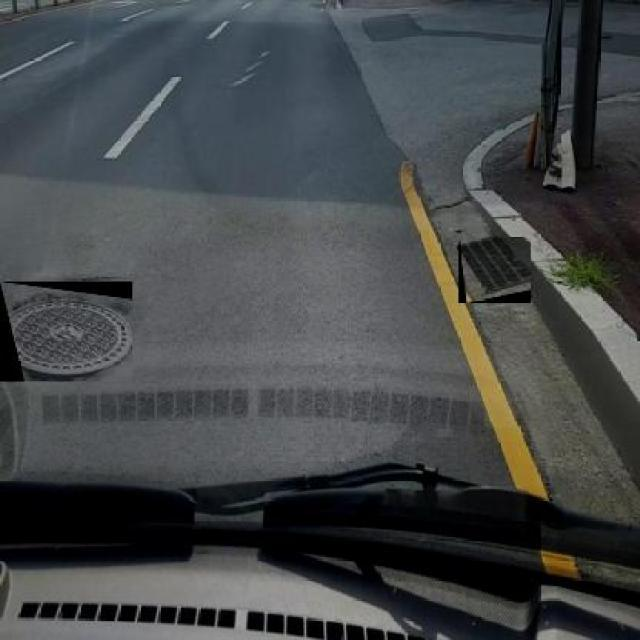Manhole: (0, 281, 132, 381), (458, 237, 531, 303)
